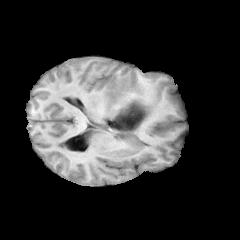glioma: (104, 73, 150, 138)
